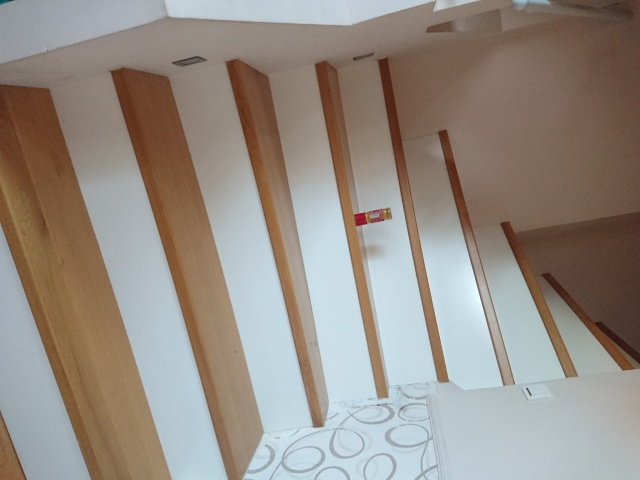Kotanyi Curry Spices Mix 70g: (353, 206, 394, 227)
